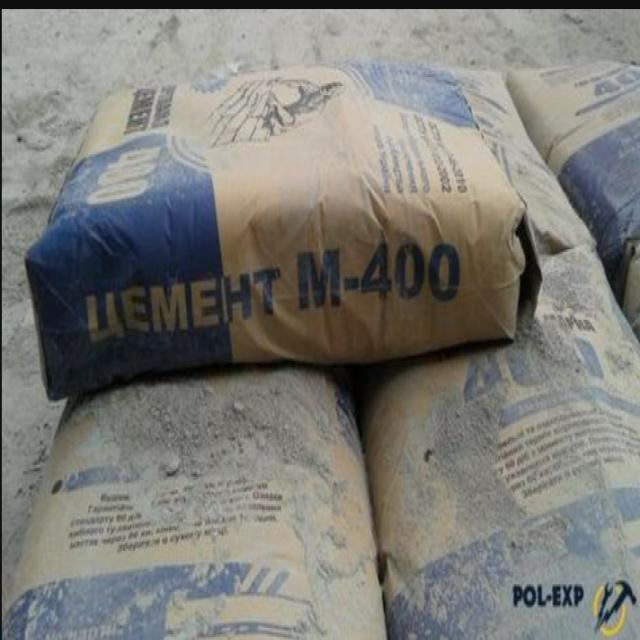KantongSemen: (28, 73, 530, 401)
